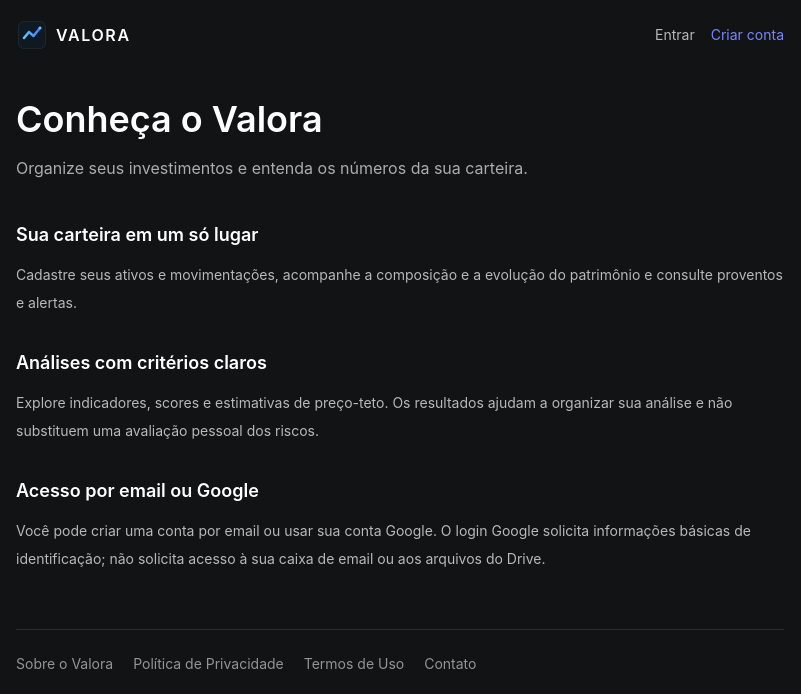
liga apresentação, privacidade e termos sem redirecionar ao login
The width and height of the screenshot is (801, 694).
Click the link "Política de Privacidade" at (208, 664), box top-left (133, 654), bottom-right (284, 674)
(page scrolled)
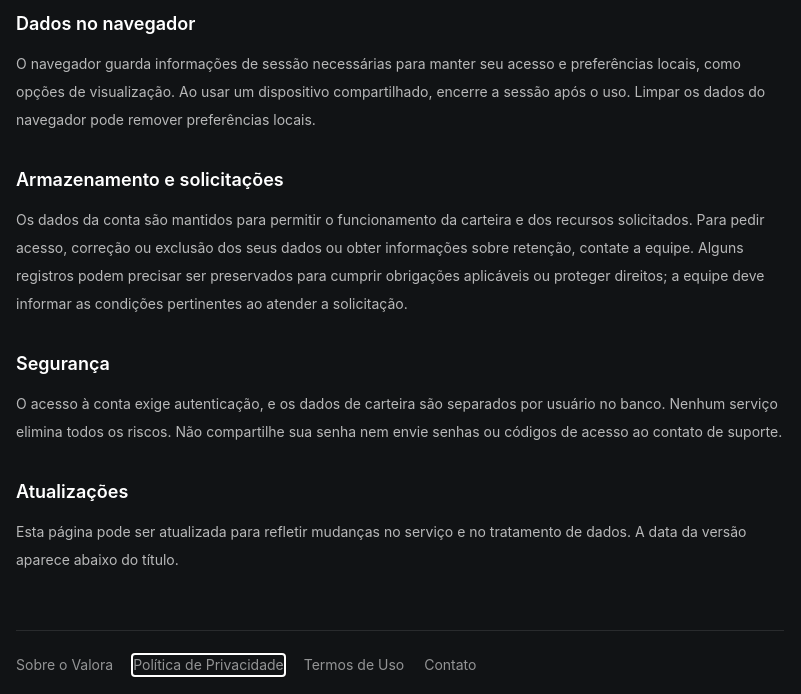
Click the link "Termos de Uso" at (354, 665), box top-left (304, 655), bottom-right (404, 675)
(page scrolled)
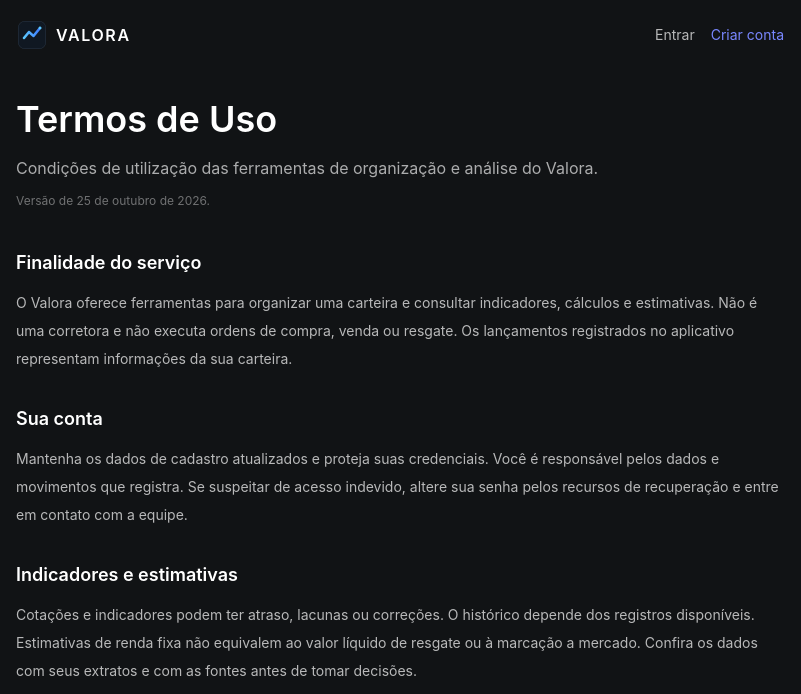
Now the heading "Termos de Uso" is shown, box top-left (16, 97), bottom-right (277, 141)
